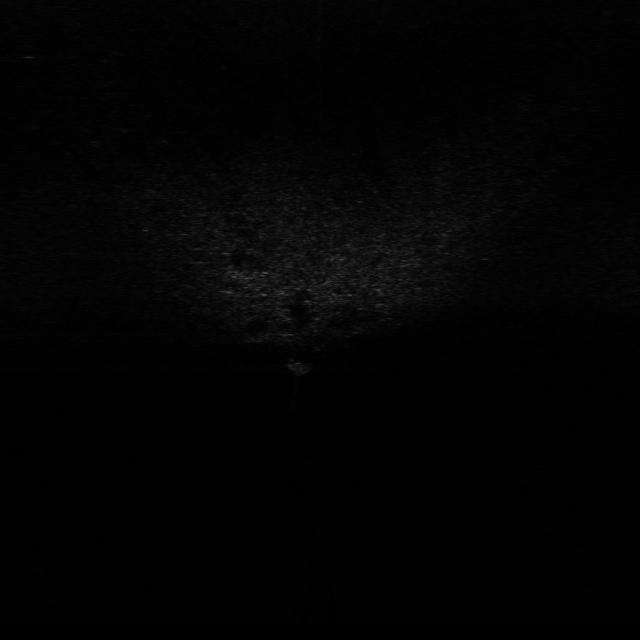cube: (284, 352, 322, 378)
